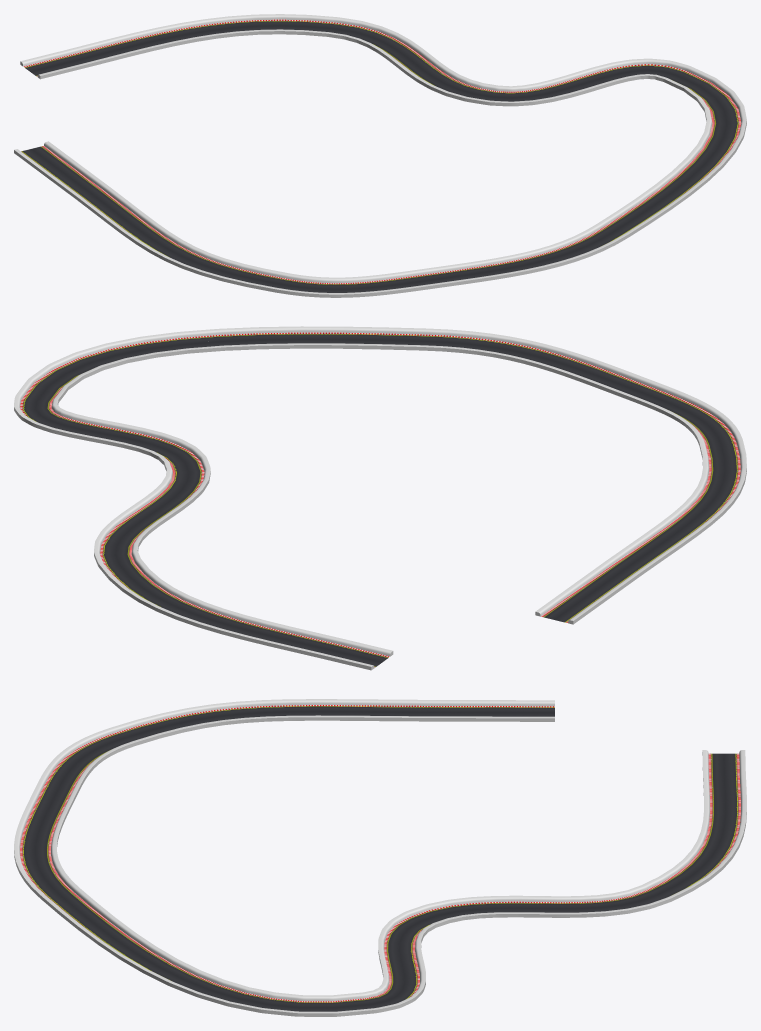
File: level 3 track 1.fbx
3 renders of one model, top to bottom at view 1: azimuth 30°, elevation 25°; view 2: azimuth 150°, elevation 25°; view 3: azimuth 270°, elevation 25°, orthographic. The views are drawn at different scales.
Visible parts, largest first — view 1: side cube 2.002, side cube 2.003, side cube 2.001; view 2: side cube 2.002, side cube 2.003, side cube 2.001; view 3: side cube 2.002, side cube 2.003, side cube 2.001.
Part boxes in pixels (x1=…): side cube 2.002: x1=21, y1=19, x2=741, y2=292; side cube 2.003: x1=14, y1=14, x2=746, y2=297; side cube 2.001: x1=37, y1=29, x2=712, y2=283; side cube 2.002: x1=20, y1=332, x2=740, y2=667; side cube 2.003: x1=14, y1=326, x2=746, y2=670; side cube 2.001: x1=51, y1=343, x2=709, y2=656; side cube 2.002: x1=20, y1=705, x2=740, y2=1011; side cube 2.003: x1=14, y1=699, x2=746, y2=1016; side cube 2.001: x1=51, y1=715, x2=709, y2=1001.
Bounding box in the file's own units: 32384 × 174 × 31907.
